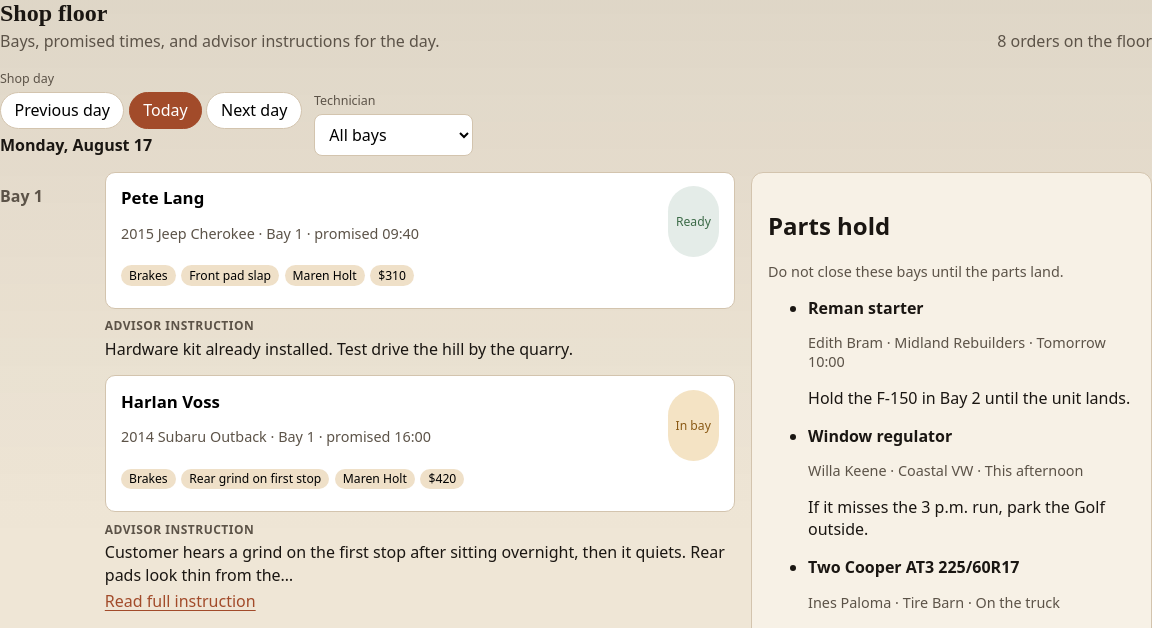
Shop floor › shows an empty floor two days out
The image size is (1152, 628).
Click the button "Next day" at coordinates (254, 110), box [206,92,302,129]
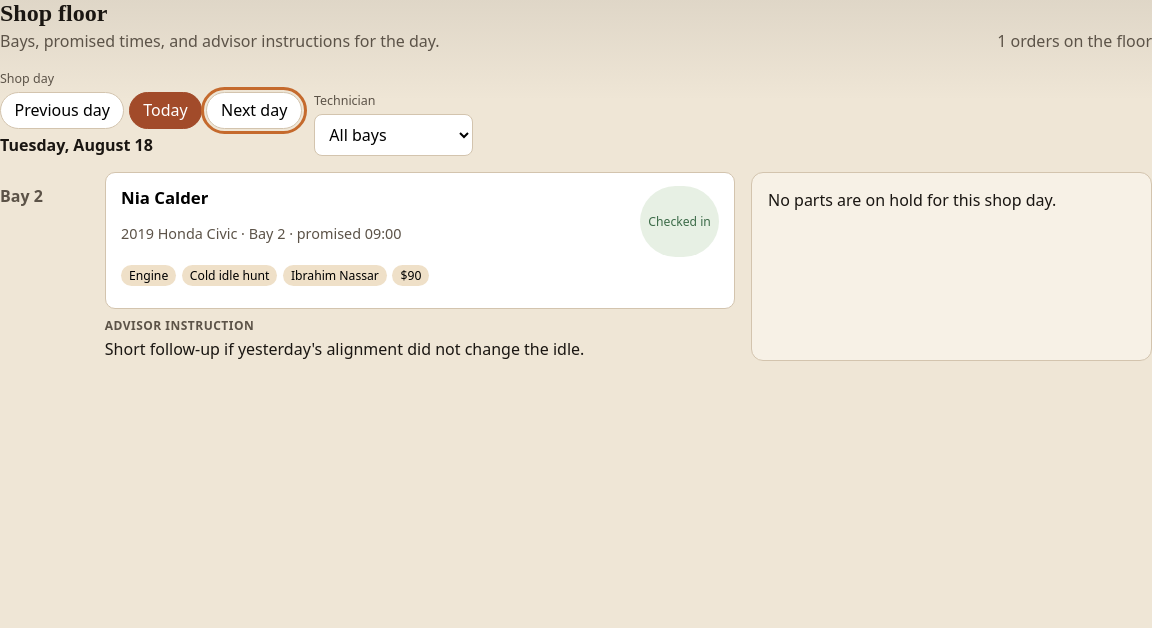
Click the button "Next day" at coordinates (254, 110), box [206,92,302,129]
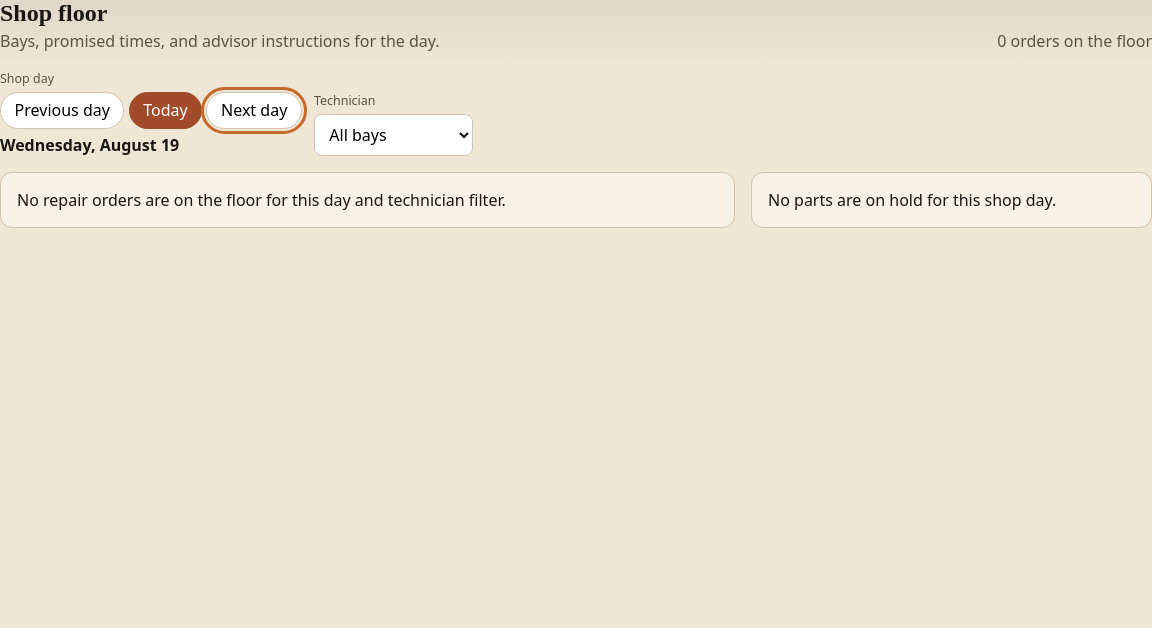
Now the text "No repair orders are on the floor for this day and technician filter." is shown, box [0,172,735,228]
